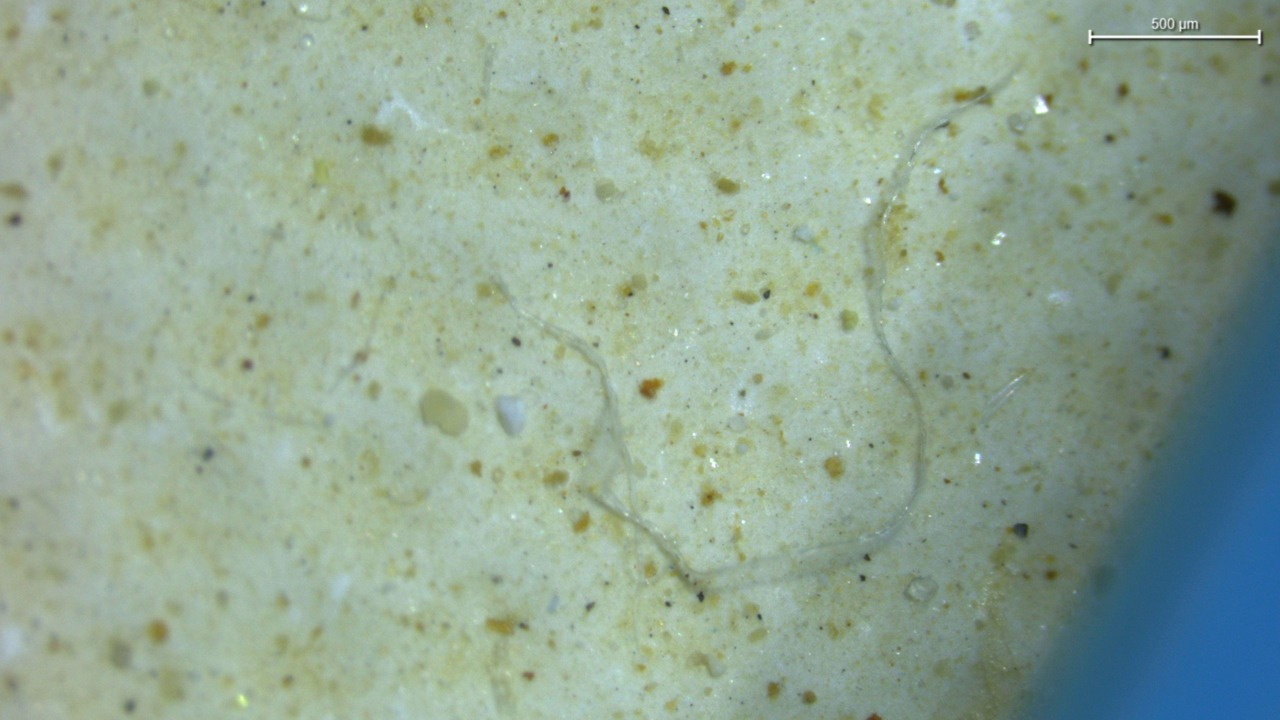microplastic_fragment: (419, 389, 468, 436), (495, 395, 525, 435)
